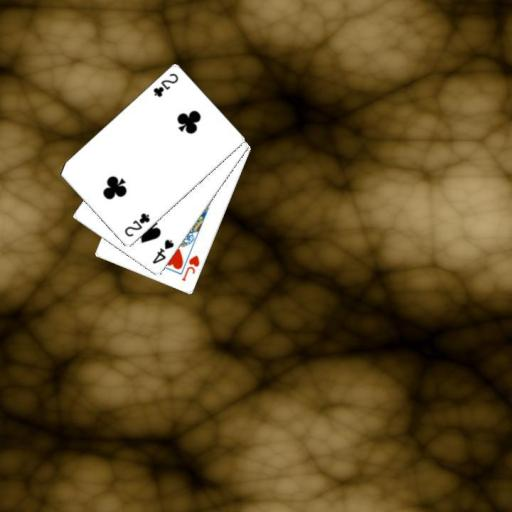2C: (150, 70, 180, 99), (121, 210, 151, 238)
4S: (149, 236, 176, 265)
JH: (179, 252, 202, 283)
